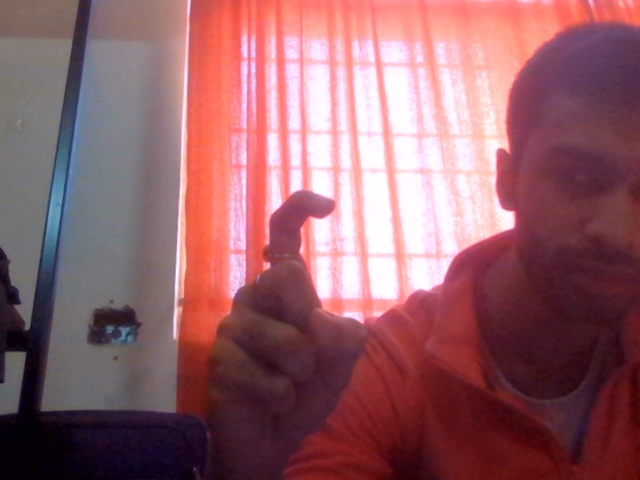X: (181, 186, 411, 480)
